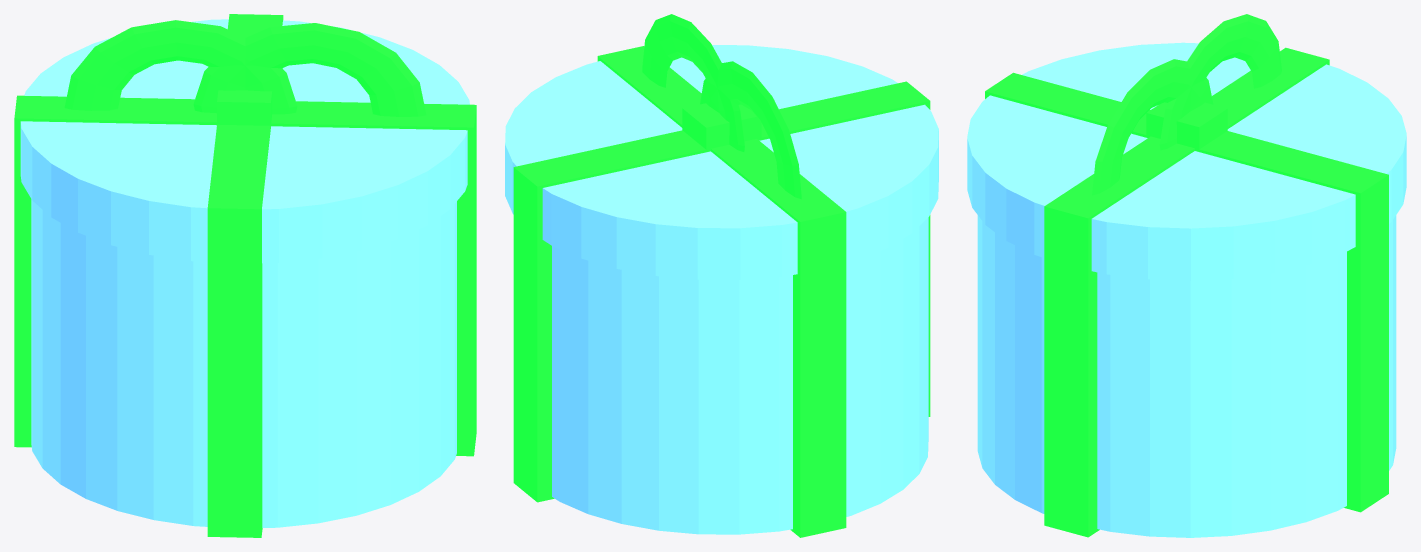
The model's file is Tmpl_Round_Root_230.glb.
3 views of the same model, side by side, from view 1: azimuth 30°, elevation 25°; view 2: azimuth 150°, elevation 25°; view 3: azimuth 270°, elevation 25° (orthographic). The views are drawn at different scales.
Visible parts, largest first — view 1: Tmpl_Round_Base.228, Tmpl_Round_Lid.228, Tmpl_Round_Ribbon_Y.228, Tmpl_Round_Ribbon_X.228, Tmpl_Round_BowL.228, Tmpl_Round_BowR.228, Tmpl_Round_BowKnot.228; view 2: Tmpl_Round_Base.228, Tmpl_Round_Lid.228, Tmpl_Round_Ribbon_X.228, Tmpl_Round_Ribbon_Y.228, Tmpl_Round_BowR.228, Tmpl_Round_BowL.228, Tmpl_Round_BowKnot.228; view 3: Tmpl_Round_Base.228, Tmpl_Round_Lid.228, Tmpl_Round_Ribbon_X.228, Tmpl_Round_Ribbon_Y.228, Tmpl_Round_BowL.228, Tmpl_Round_BowR.228, Tmpl_Round_BowKnot.228.
Boxes of the visible parts, x1,y1,x2,y2 form: Tmpl_Round_Base.228: (31, 199, 456, 527); Tmpl_Round_Lid.228: (20, 19, 469, 263); Tmpl_Round_Ribbon_Y.228: (207, 14, 283, 537); Tmpl_Round_Ribbon_X.228: (14, 95, 476, 456); Tmpl_Round_BowL.228: (64, 20, 297, 114); Tmpl_Round_BowR.228: (193, 23, 426, 116); Tmpl_Round_BowKnot.228: (217, 90, 272, 125); Tmpl_Round_Base.228: (552, 217, 928, 534); Tmpl_Round_Lid.228: (505, 45, 938, 279); Tmpl_Round_Ribbon_X.228: (597, 46, 846, 537); Tmpl_Round_Ribbon_Y.228: (513, 81, 930, 502); Tmpl_Round_BowR.228: (642, 14, 744, 151); Tmpl_Round_BowL.228: (700, 61, 801, 199); Tmpl_Round_BowKnot.228: (682, 103, 761, 152); Tmpl_Round_Base.228: (977, 215, 1396, 537); Tmpl_Round_Lid.228: (967, 42, 1406, 280); Tmpl_Round_Ribbon_X.228: (1044, 47, 1329, 537); Tmpl_Round_Ribbon_Y.228: (985, 72, 1388, 512); Tmpl_Round_BowL.228: (1159, 14, 1281, 150); Tmpl_Round_BowR.228: (1092, 59, 1213, 195); Tmpl_Round_BowKnot.228: (1146, 102, 1227, 151).
Bounding box in the file's own units: 0.9886 × 1.01 × 0.9886.
